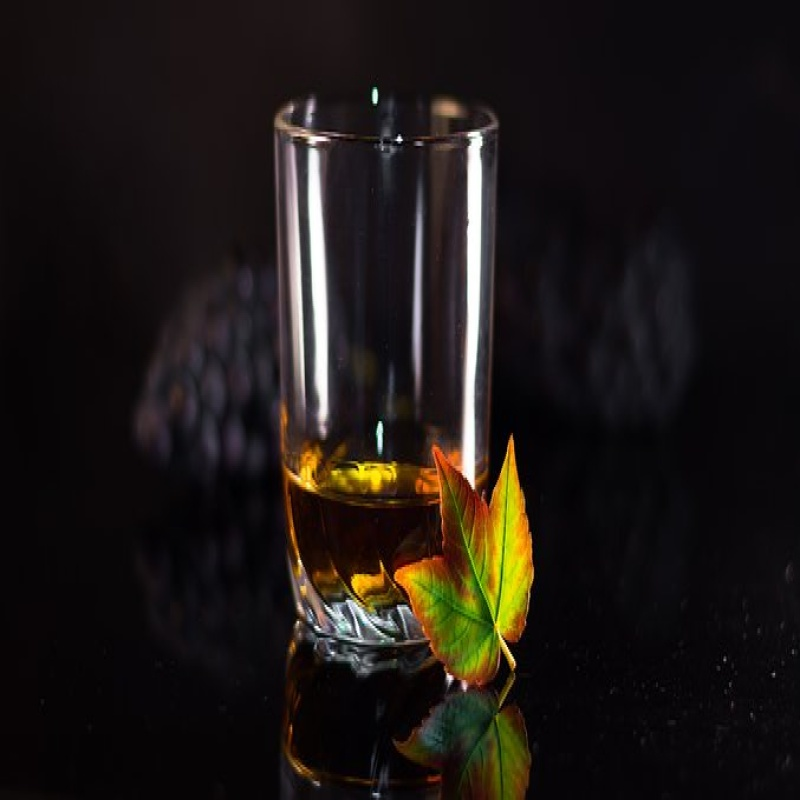whiskey: (254, 91, 498, 672)
